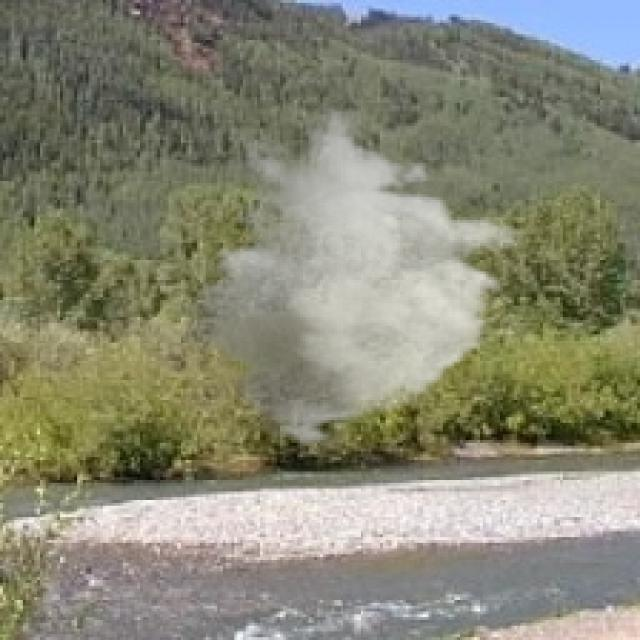smoke: (177, 106, 529, 448)
